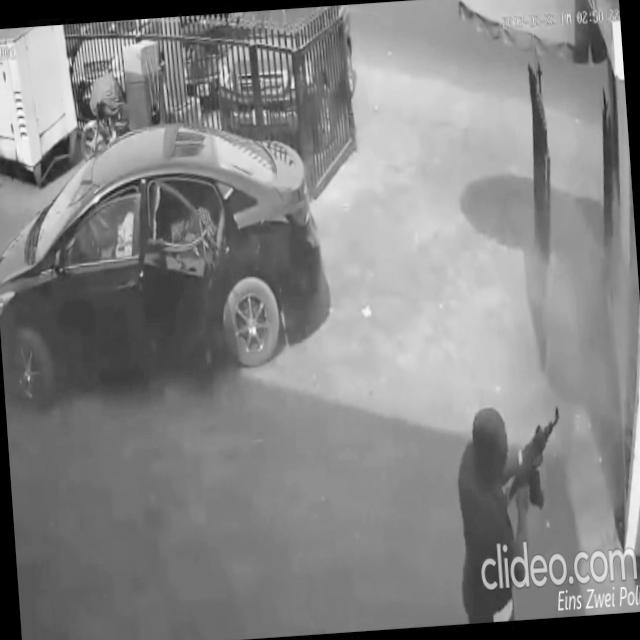gun: (504, 406, 566, 512)
person with a gun: (450, 398, 573, 624)
